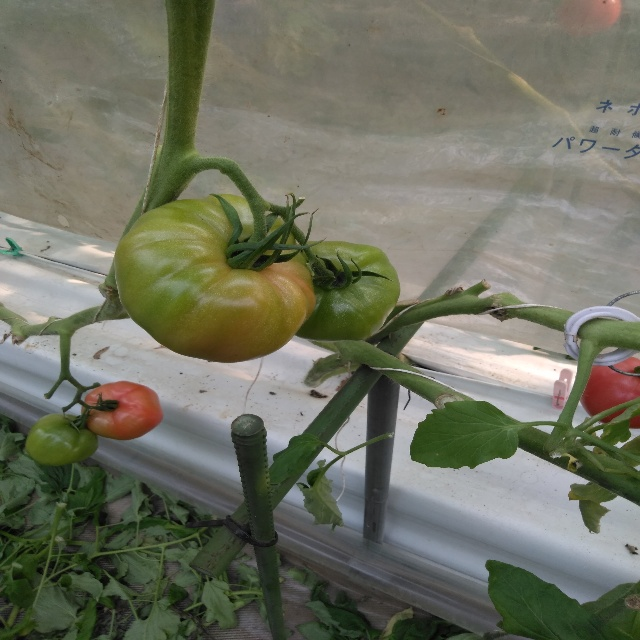b_fully_ripened: (580, 356, 640, 429)
b_green: (113, 193, 316, 363), (295, 240, 401, 342), (24, 413, 99, 468)
b_half_ripened: (82, 380, 164, 440)
